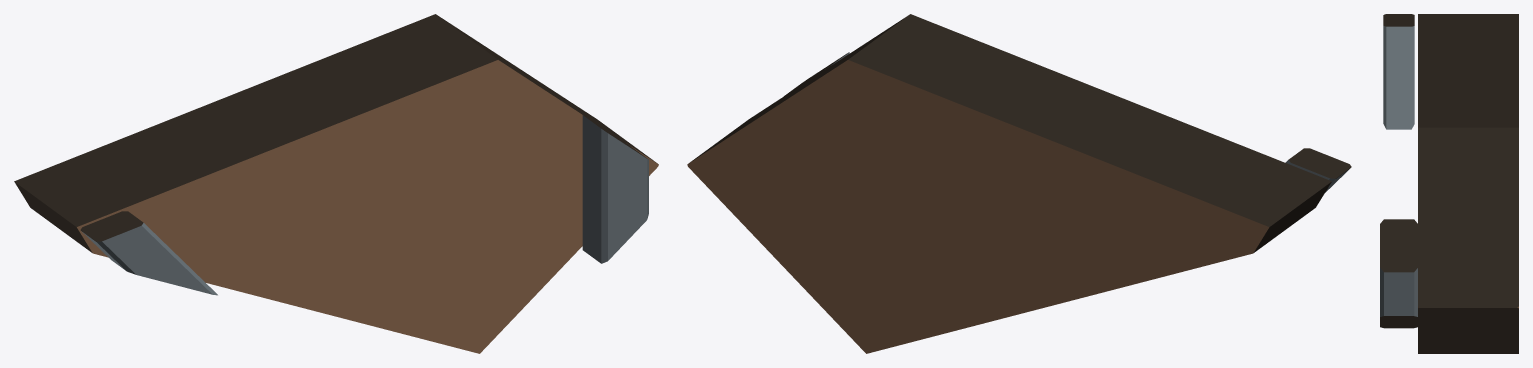
Rendered from SM_DoorShard_03_13.fbx.
3 views of the same model, side by side, from view 1: azimuth 30°, elevation 25°; view 2: azimuth 150°, elevation 25°; view 3: azimuth 270°, elevation 25° (orthographic). The views are drawn at different scales.
Parts seen in each view (by area): view 1: SM_DoorShard_03_13; view 2: SM_DoorShard_03_13; view 3: SM_DoorShard_03_13.
Part boxes in pixels (x1,y1,x2,y2): SM_DoorShard_03_13: [14, 14, 658, 353]; SM_DoorShard_03_13: [687, 14, 1351, 353]; SM_DoorShard_03_13: [1380, 14, 1518, 353].
Size of the model in its own units: 86.07 by 22 by 40.86.
